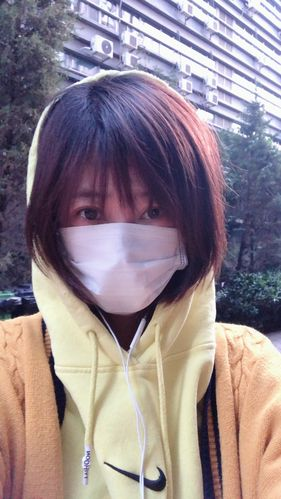mask: (56, 125, 194, 304)
